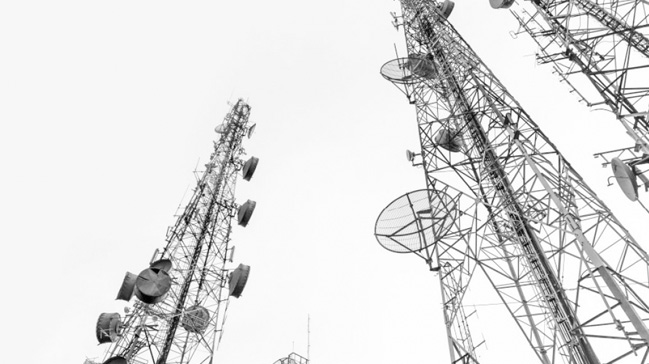b: (138, 269, 169, 303), (96, 312, 119, 340), (118, 269, 135, 304), (231, 264, 248, 298), (243, 155, 259, 183), (240, 200, 256, 227), (439, 1, 454, 19)
